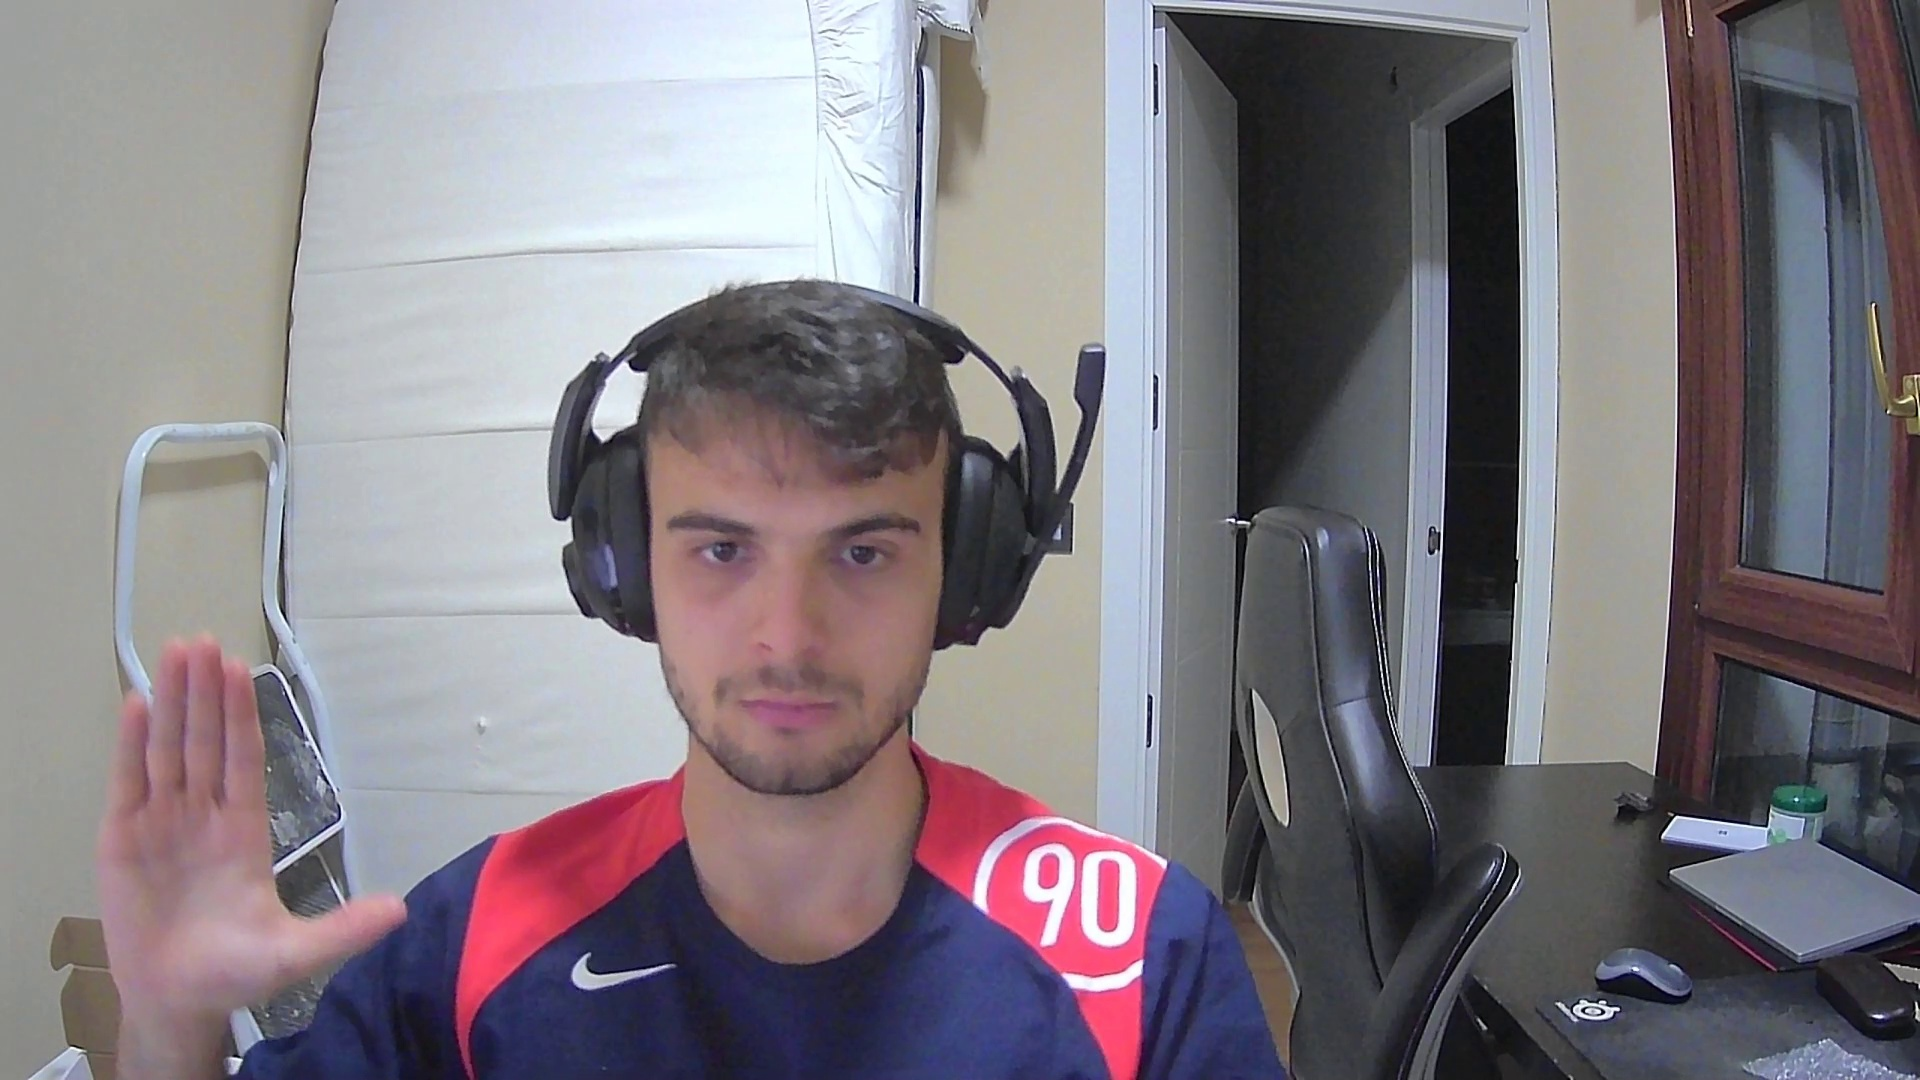Palm: (91, 633, 410, 1007)
